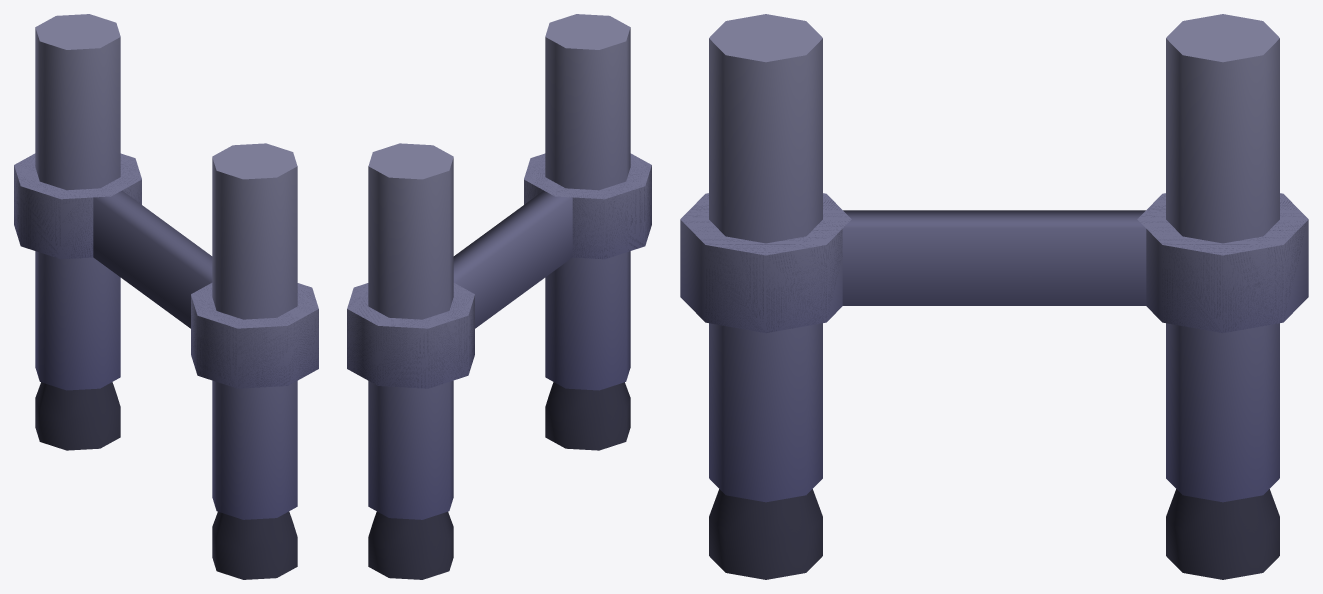
The model's file is structure-medium.glb.
3 renders of one model, left to right at view 1: azimuth 30°, elevation 25°; view 2: azimuth 150°, elevation 25°; view 3: azimuth 270°, elevation 25°, orthographic. The views are drawn at different scales.
Parts seen in each view (by area): view 1: structure-medium; view 2: structure-medium; view 3: structure-medium.
Part boxes in pixels (bbox=[...]): structure-medium: bbox=[14, 14, 318, 579]; structure-medium: bbox=[347, 14, 651, 579]; structure-medium: bbox=[680, 14, 1308, 579].
Bounding box in the file's own units: 0.3 × 1 × 1.1.
